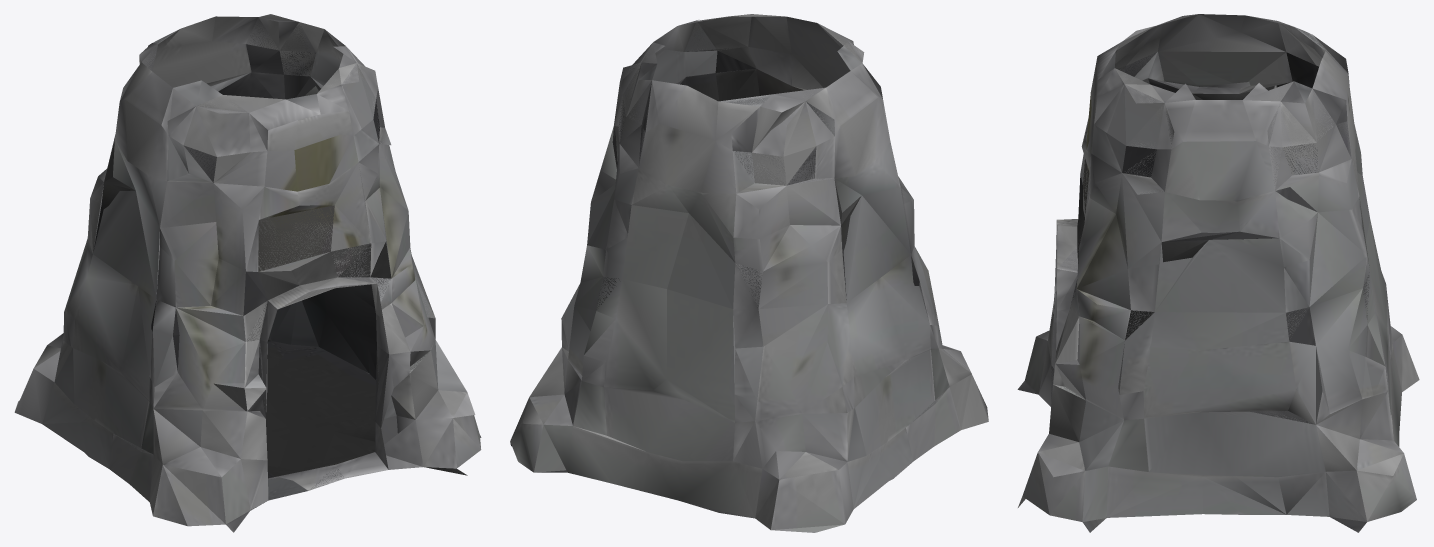
Rendered from shared_flak_tower_compact_option_lod2.glb.
3 renders of one model, left to right at view 1: azimuth 30°, elevation 25°; view 2: azimuth 150°, elevation 25°; view 3: azimuth 270°, elevation 25°, orthographic. The views are drawn at different scales.
Visible parts, largest first — view 1: mesh_node; view 2: mesh_node; view 3: mesh_node.
Boxes of the visible parts, x1,y1,x2,y2 form: mesh_node: (14,14,481,532); mesh_node: (510,14,988,532); mesh_node: (1017,14,1419,532).
Size of the model in its own units: 4.81 by 5.27 by 4.83.
1 material, 1 textured.
